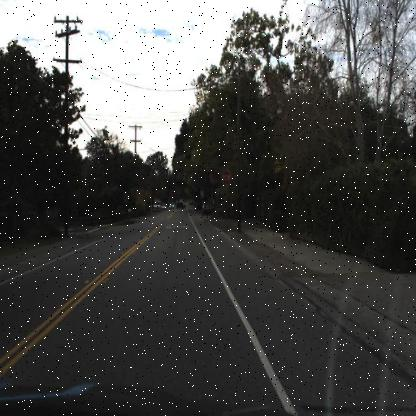car: (198, 194, 221, 220), (148, 198, 163, 214), (167, 202, 174, 210)
